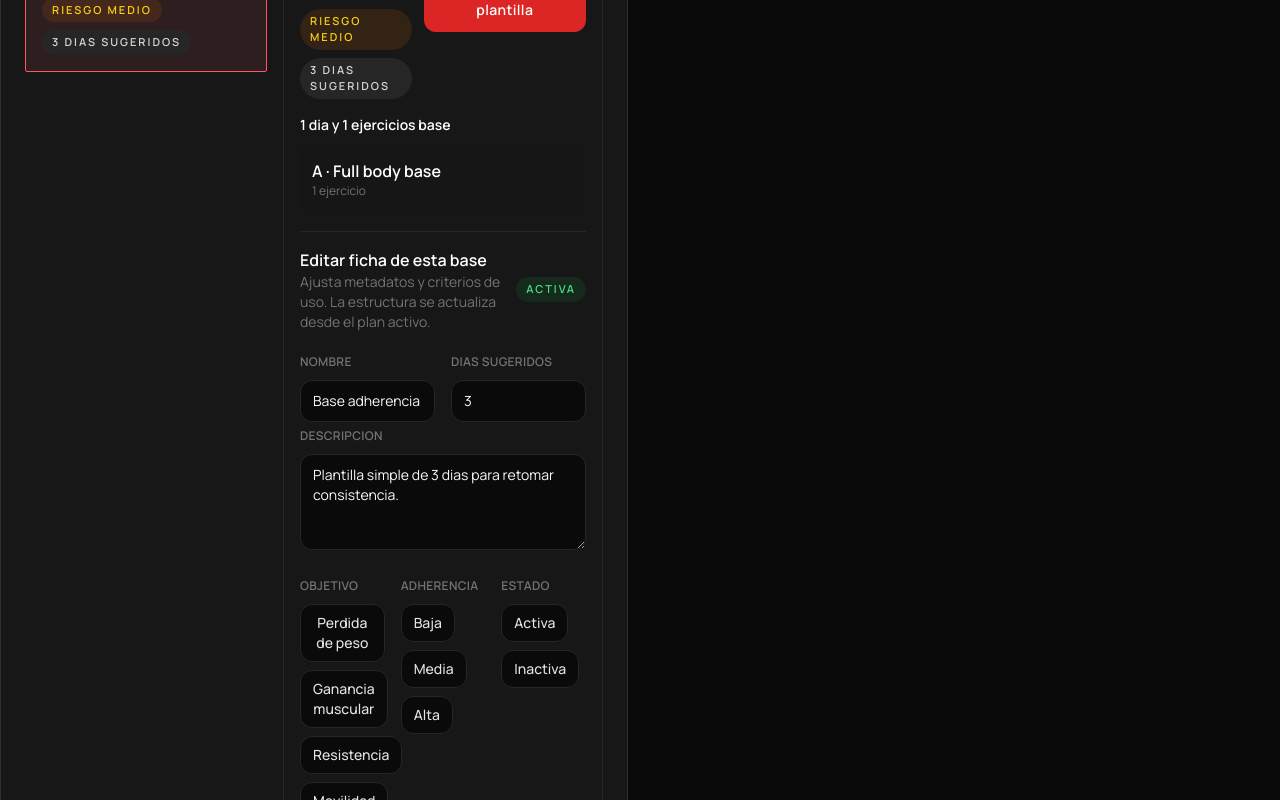
Test case: TrainerProgramPage › lets the trainer edit and delete the selected training template
Later steps or results of the test are not shown.
(page scrolled)
Replace the text in the field with test id "training-template-name-input" with "Base ajustada para reenganche". click: (368, 400)
box: [300,380,435,422]
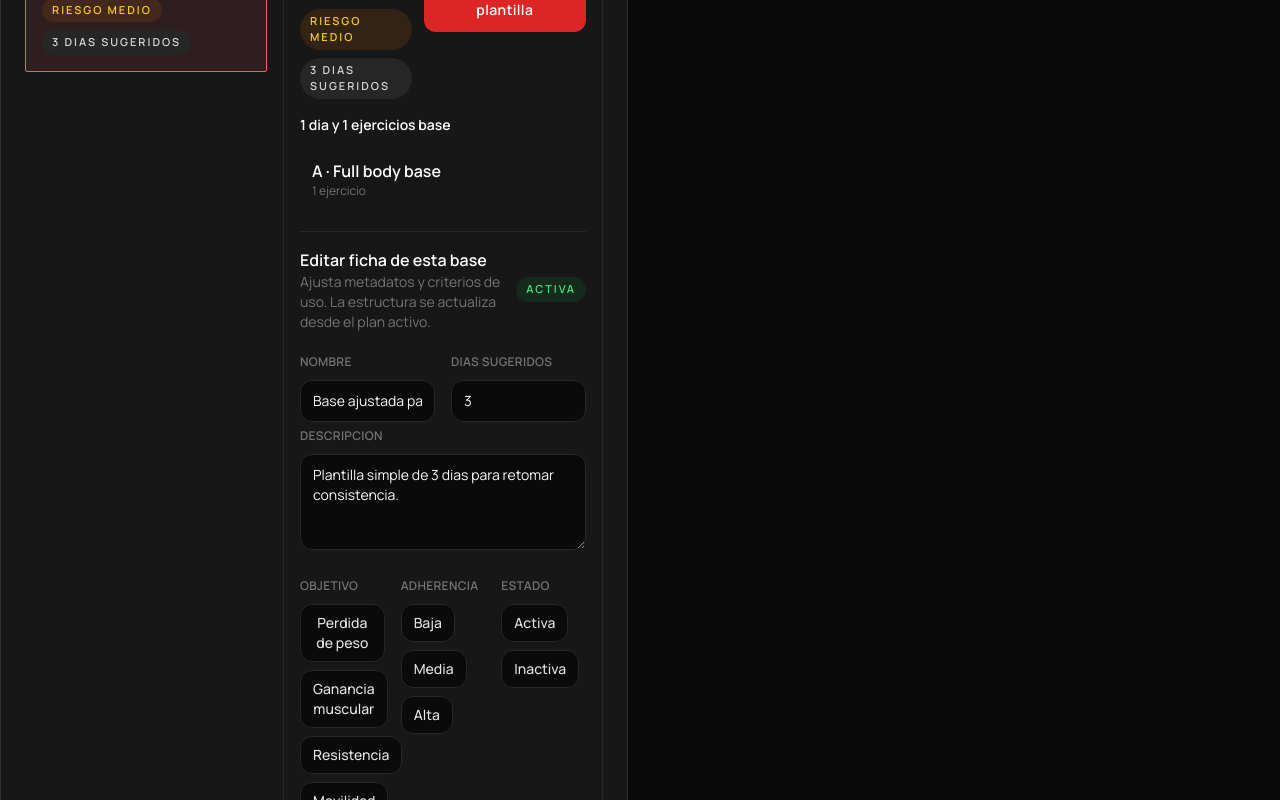
Replace the text in the text box with test id "training-template-description-input" with "Version mas clara para members con adherencia media.". click: (443, 502)
box: [300,454,586,550]
(page scrolled)
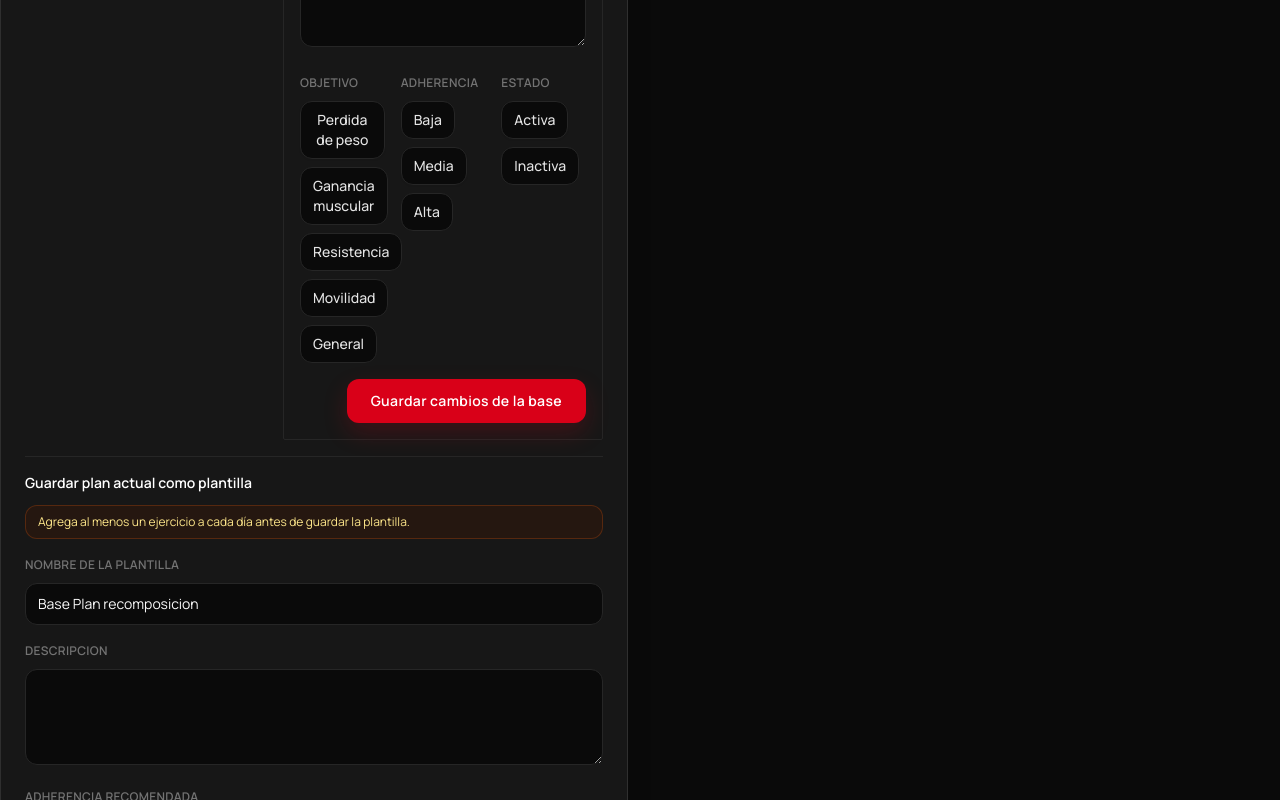
Click the button "Guardar cambios de la base". click: (466, 400)
box: [347,378,586,422]
(page scrolled)
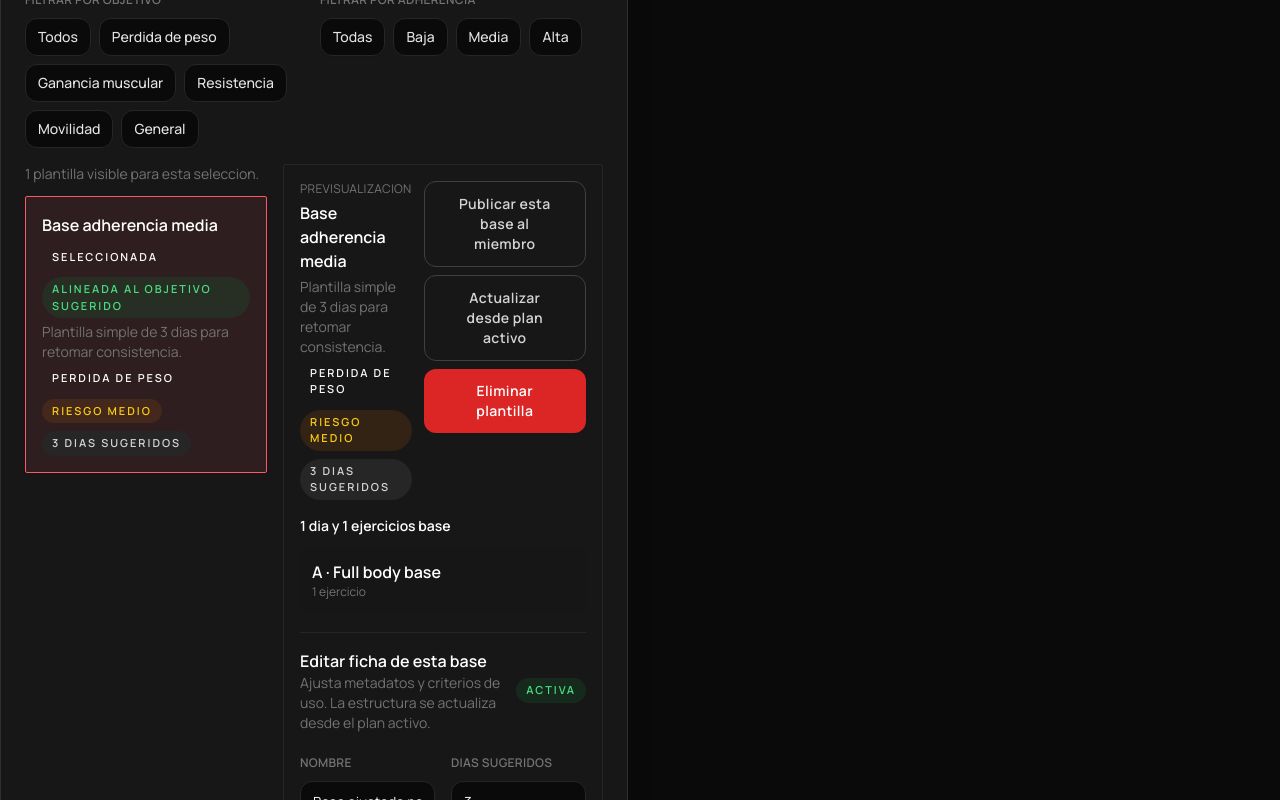
Click the button with test id "delete-training-template-button". click: (505, 400)
box: [424,368,586,432]
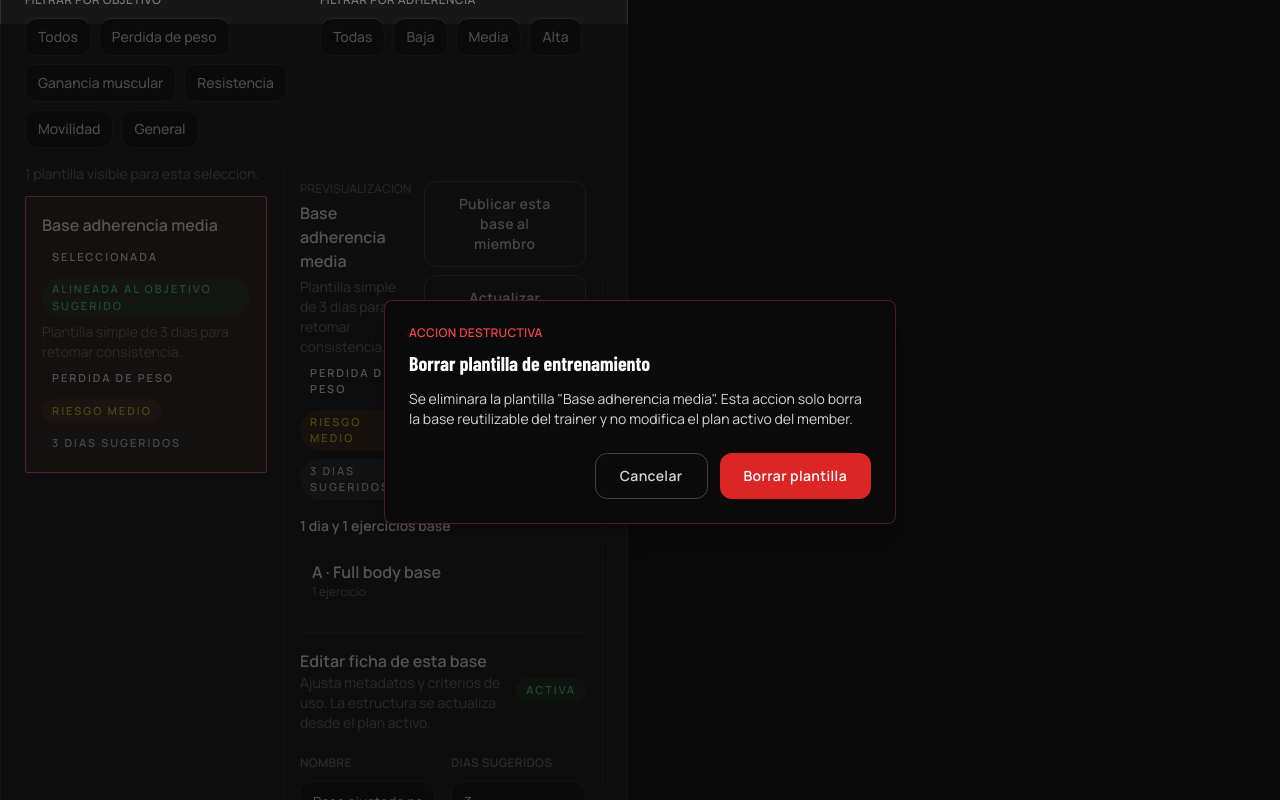
Check: the dialog with test id "delete-confirm-dialog" is shown
Check: the text "solo borra la base reutilizable del trainer" is shown, box [409,389,862,428]
